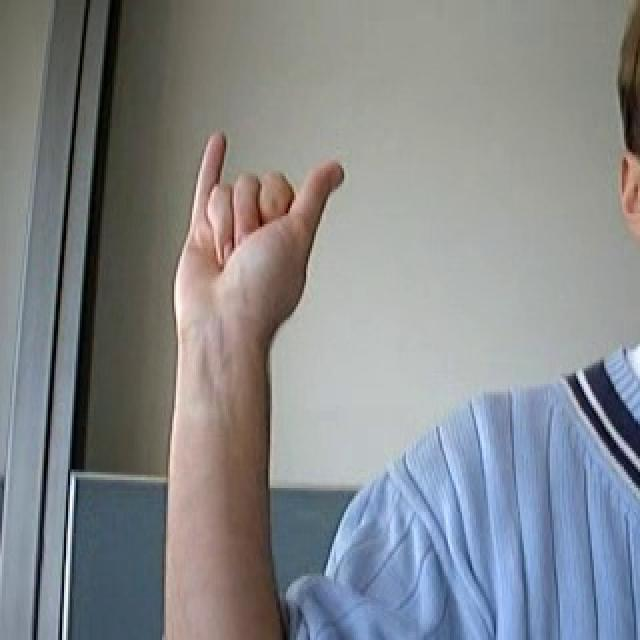Y: (161, 127, 353, 359)
